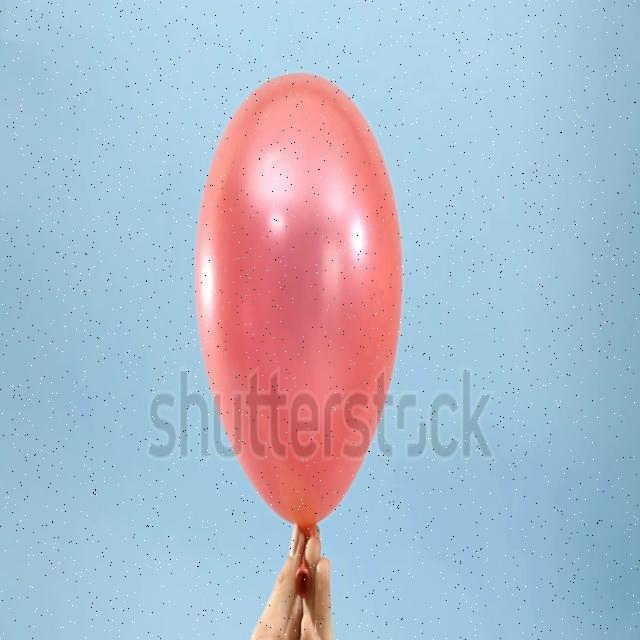red: (191, 68, 406, 533)
